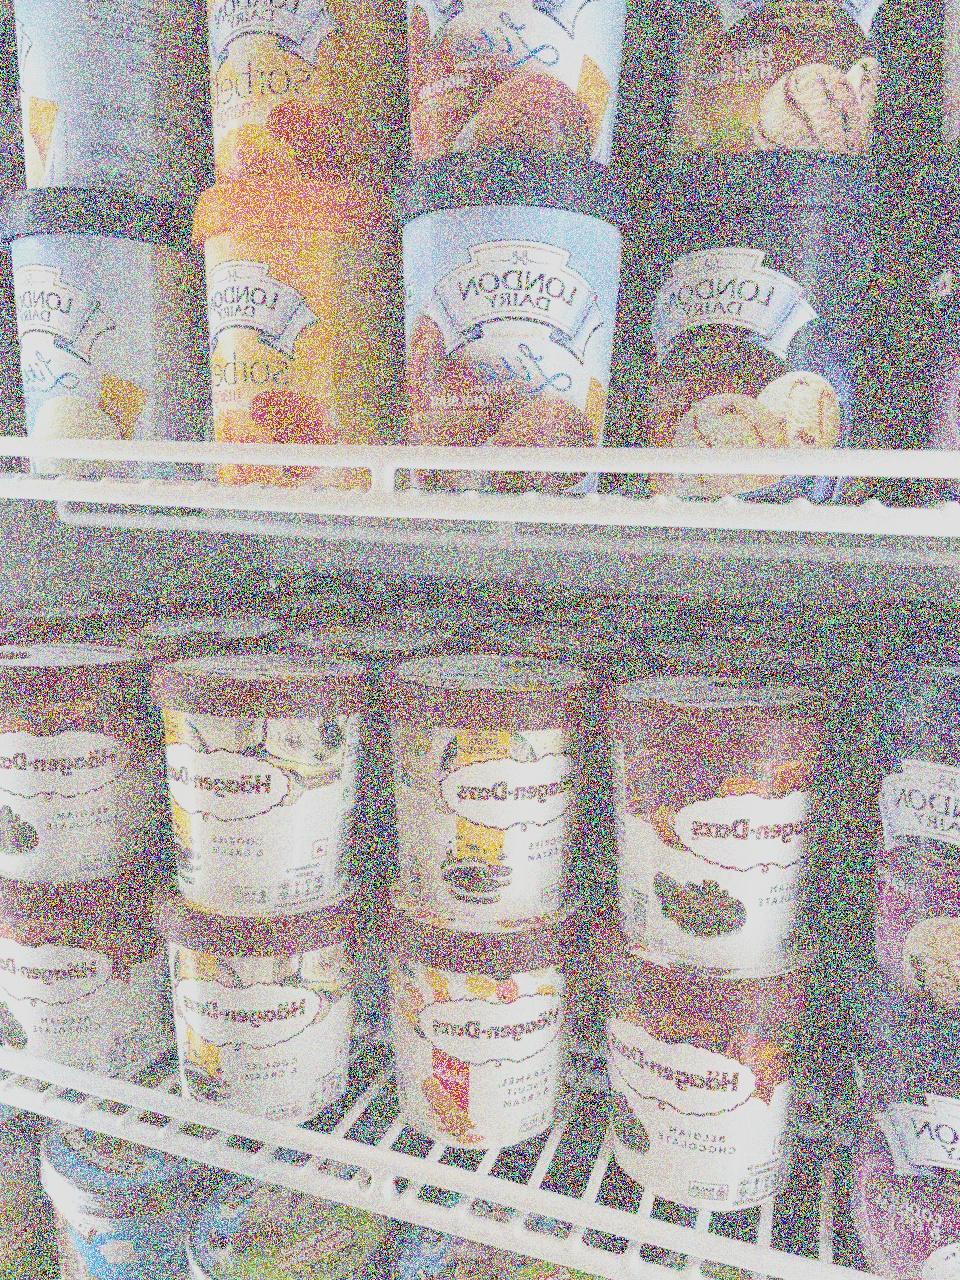Haagen-Dazs IceCream Tub: (605, 684, 851, 967), (149, 638, 394, 920), (592, 936, 812, 1235), (376, 642, 595, 934), (378, 886, 609, 1158), (167, 867, 388, 1128), (1, 876, 172, 1121), (1, 639, 154, 906)
